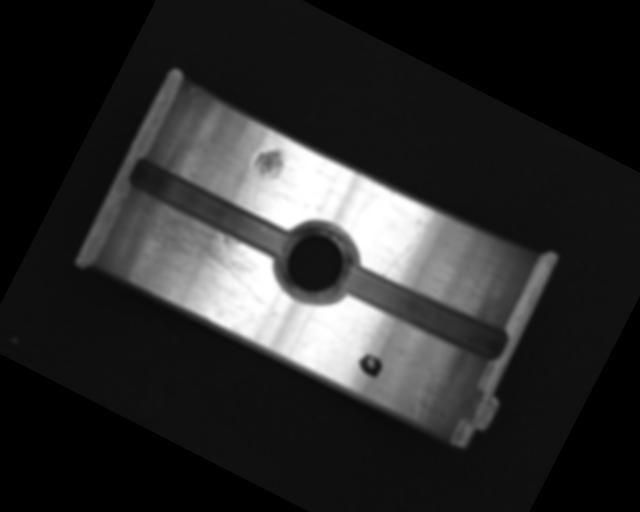blot: (354, 350, 386, 380)
bruise: (248, 143, 289, 184)
gap: (334, 251, 513, 369), (125, 153, 297, 264)
hole: (262, 207, 368, 315)
nick: (382, 227, 421, 283)
scratch: (106, 186, 285, 318)
